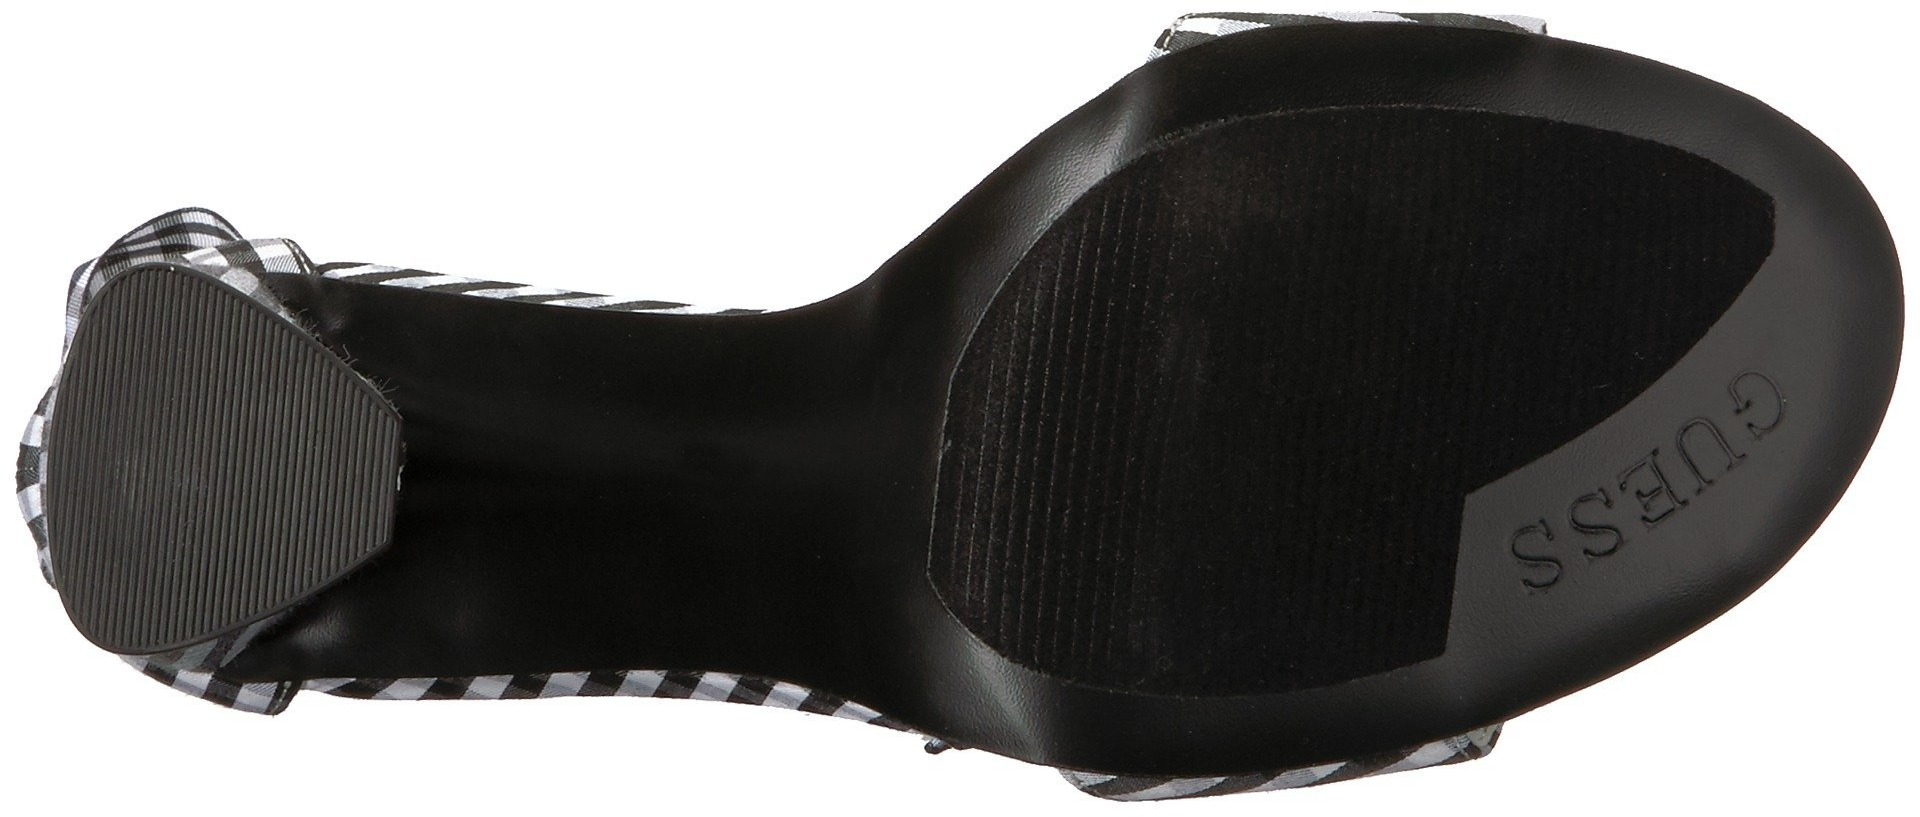other: (994, 220, 1480, 655), (72, 349, 318, 593), (1441, 122, 1684, 364)
